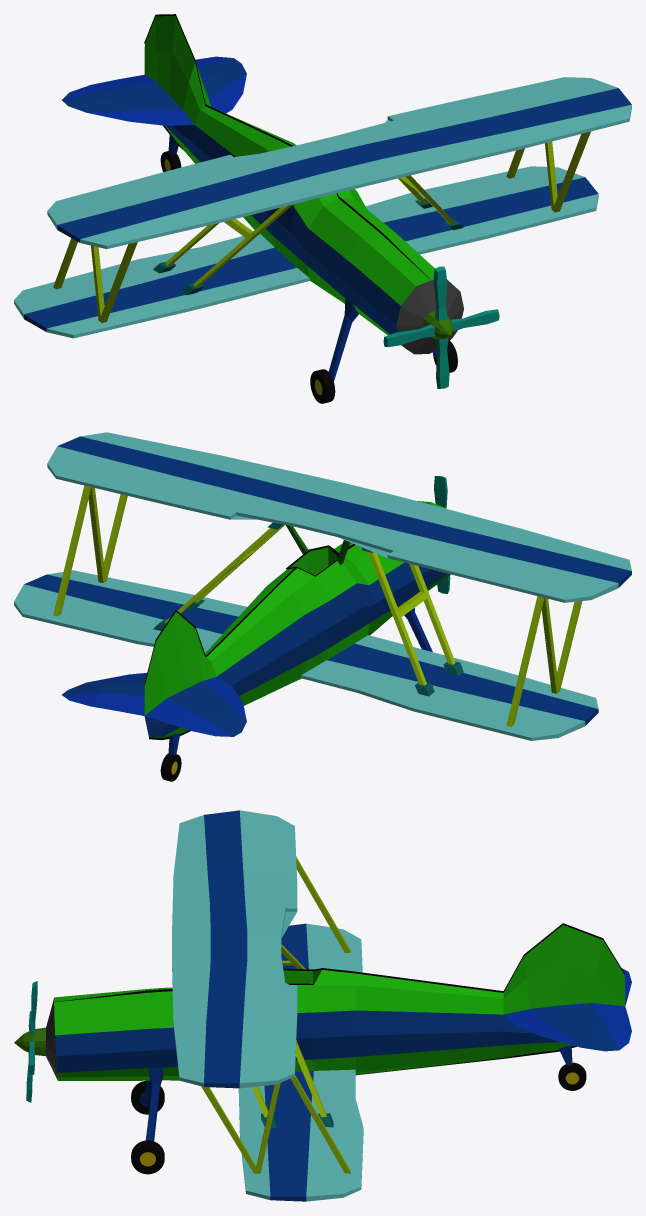
The model's file is doppeldecker (1).fbx.
3 renders of one model, top to bottom at view 1: azimuth 30°, elevation 25°; view 2: azimuth 150°, elevation 25°; view 3: azimuth 270°, elevation 25°, orthographic.
Parts seen in each view (by area): view 1: Body Top, Body Top.001; view 2: Body Top, Body Top.001; view 3: Body Top, Body Top.001.
Boxes of the visible parts, x1,y1,x2,y2 form: Body Top: [14, 14, 631, 403]; Body Top.001: [383, 266, 499, 388]; Body Top: [14, 432, 631, 781]; Body Top.001: [434, 476, 450, 593]; Body Top: [14, 810, 631, 1201]; Body Top.001: [26, 981, 37, 1102].
Size of the model in its own units: 716 by 269 by 685.
